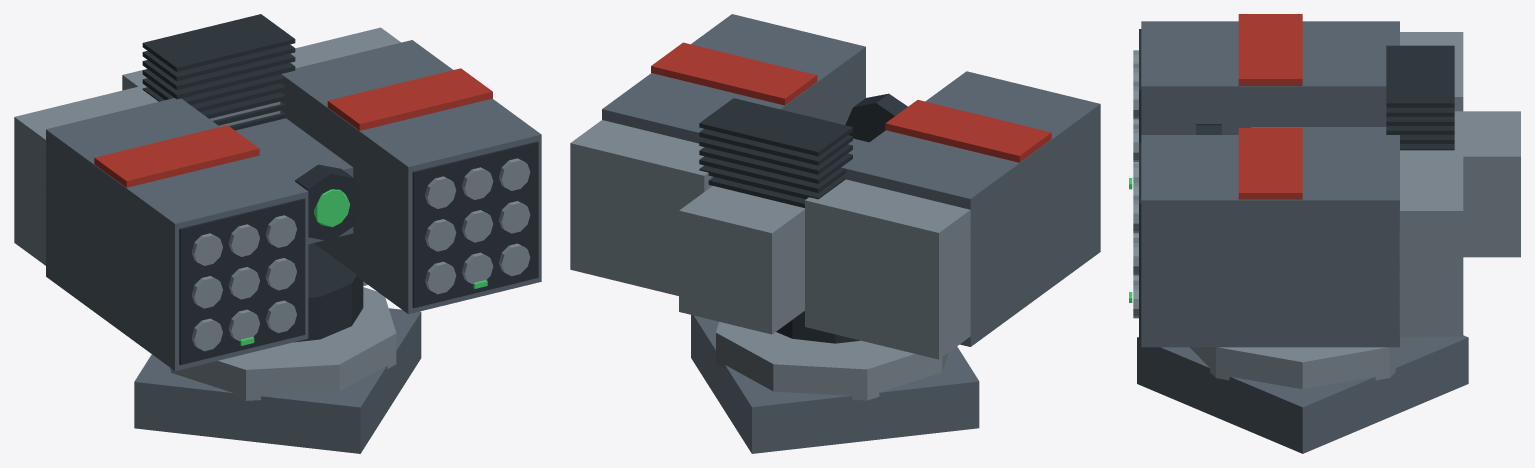
The model's file is quiver_t3_d0.glb.
The picture shows the model from 3 angles, left to right: view 1: azimuth 30°, elevation 25°; view 2: azimuth 150°, elevation 25°; view 3: azimuth 270°, elevation 25°; orthographic projection.
Parts seen in each view (by area): view 1: ROOT_ARMOR_GEOMETRY; view 2: ROOT_ARMOR_GEOMETRY; view 3: ROOT_ARMOR_GEOMETRY.
Boxes of the visible parts, <box> form: ROOT_ARMOR_GEOMETRY: <box>14,14,541,453</box>; ROOT_ARMOR_GEOMETRY: <box>570,14,1100,453</box>; ROOT_ARMOR_GEOMETRY: <box>1129,14,1520,453</box>.
Bounding box in the file's own units: 1.98 × 1.6 × 1.83.
